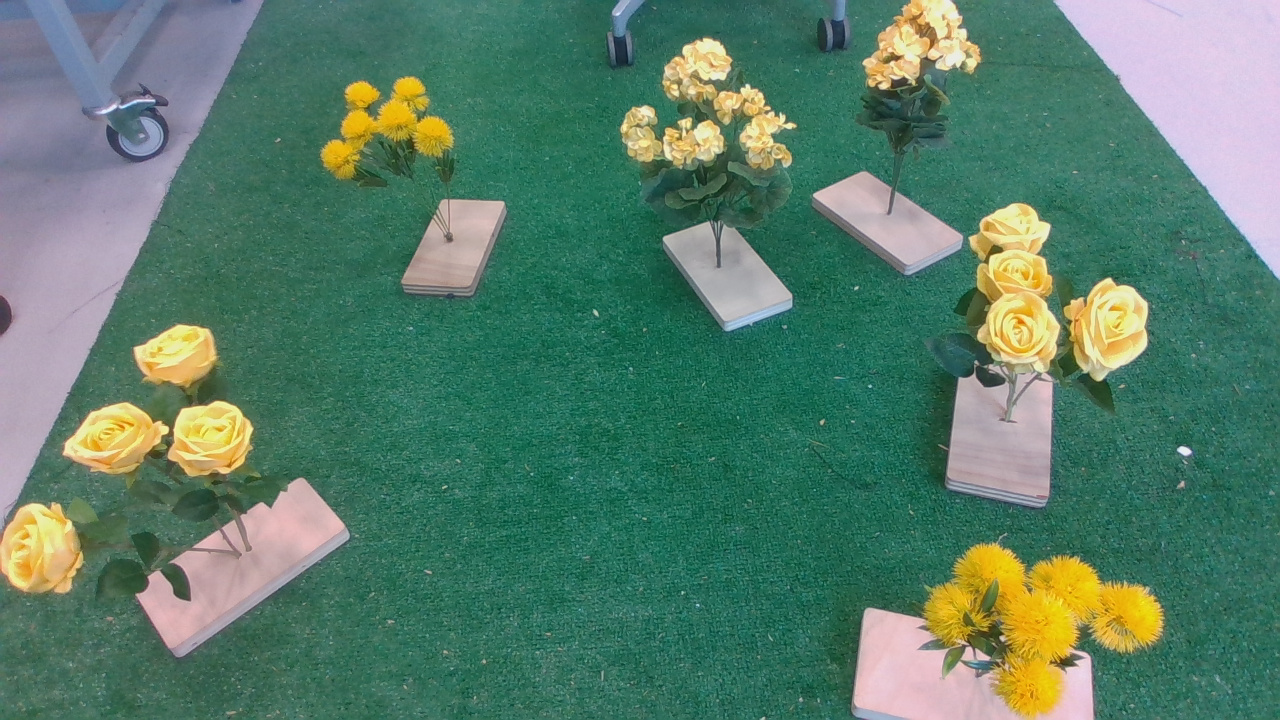dandelion: (897, 534, 1179, 717), (314, 78, 471, 207)
geranium: (619, 36, 810, 244), (854, 1, 993, 161)
rose: (6, 322, 301, 620), (964, 196, 1158, 422)
